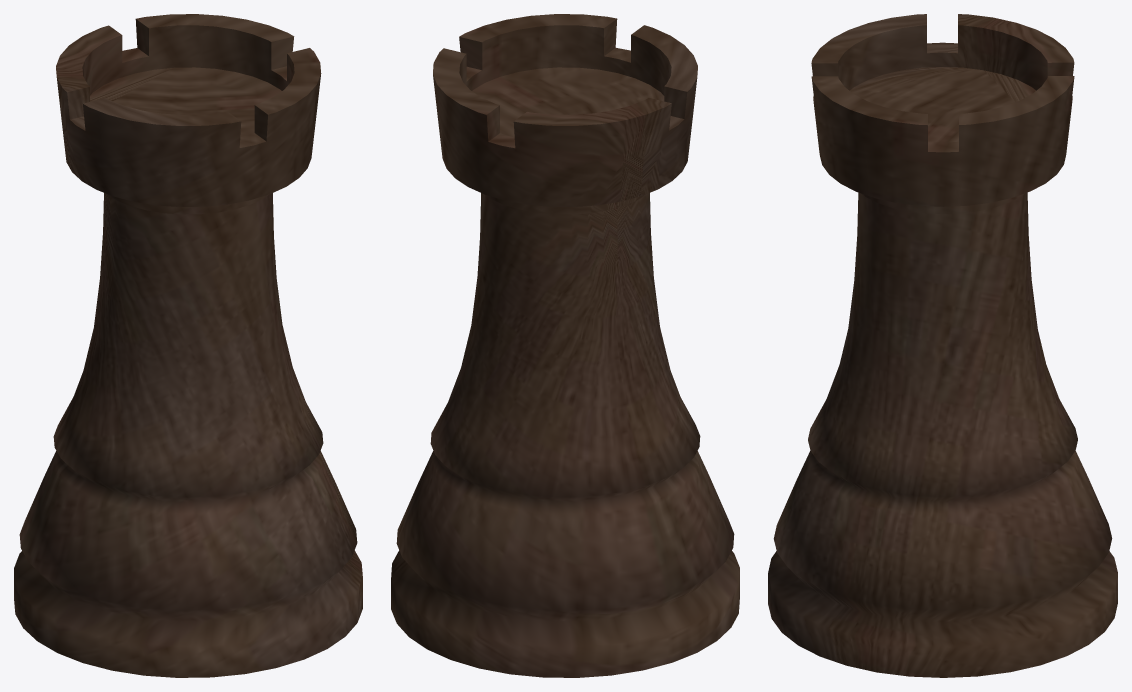
The model's file is Rook.obj.
3 renders of one model, left to right at view 1: azimuth 30°, elevation 25°; view 2: azimuth 150°, elevation 25°; view 3: azimuth 270°, elevation 25°, orthographic.
Visible parts, largest first — view 1: rook.003_Cylinder.006; view 2: rook.003_Cylinder.006; view 3: rook.003_Cylinder.006.
Part boxes in pixels (x1,y1,x2,y2): rook.003_Cylinder.006: [14, 14, 362, 677]; rook.003_Cylinder.006: [391, 14, 739, 677]; rook.003_Cylinder.006: [768, 14, 1117, 677].
Size of the model in its own units: 1.12 by 1.9 by 1.12.
